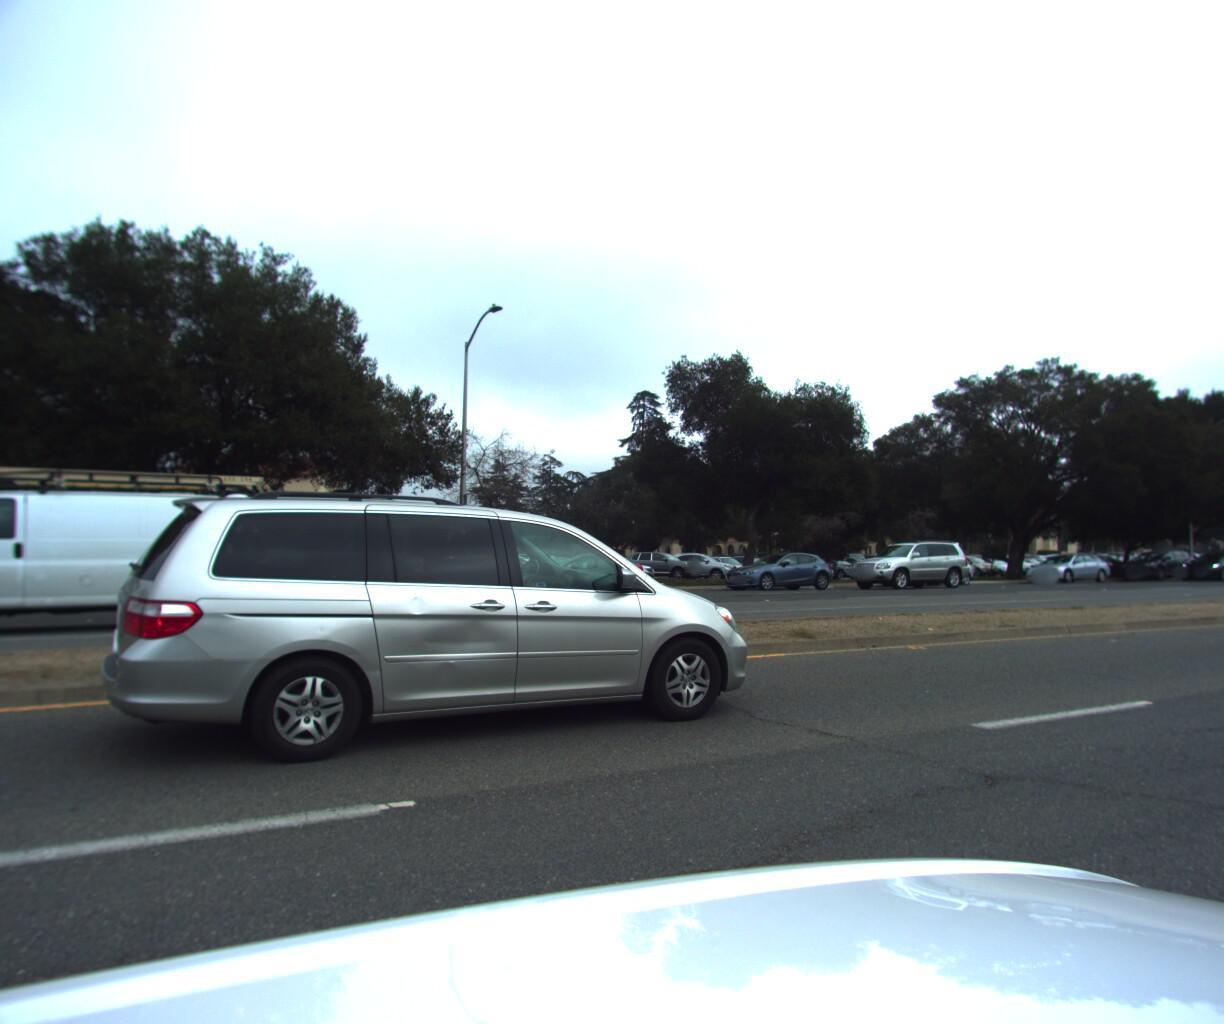car: (109, 470, 785, 791), (504, 548, 656, 596), (843, 535, 974, 590), (717, 547, 843, 591), (868, 546, 980, 584), (1017, 548, 1116, 581), (1113, 542, 1202, 576), (1172, 548, 1224, 579)
